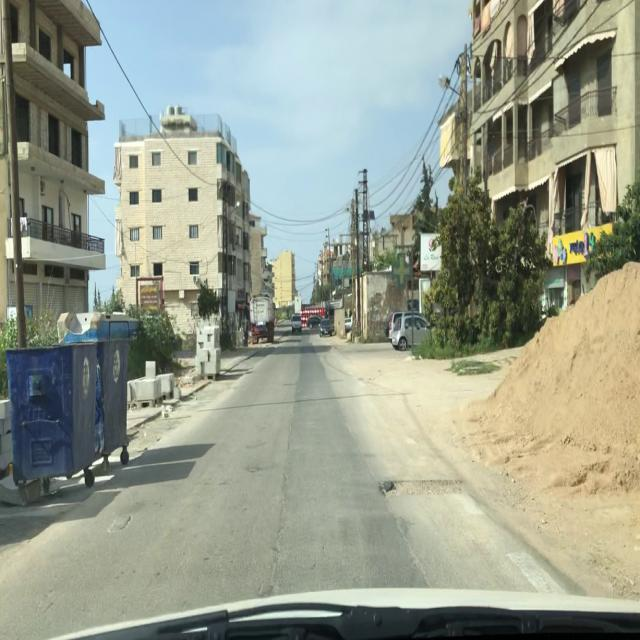Buraco: (374, 478, 467, 499)
